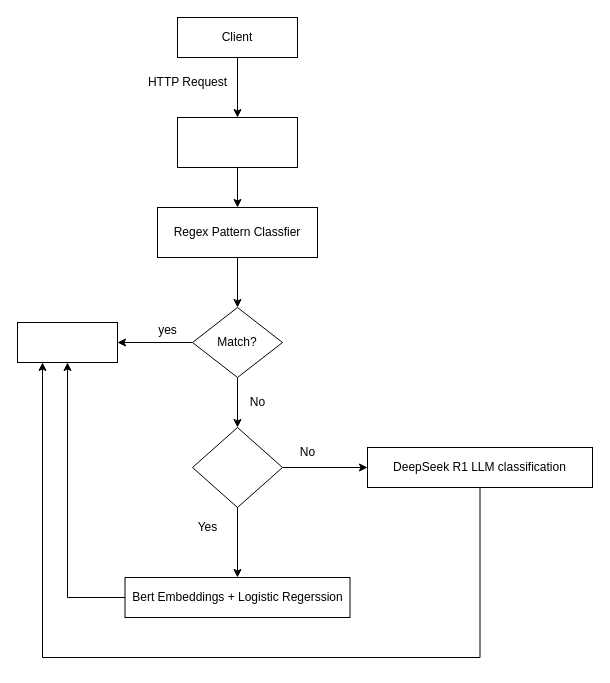
Image size: 610x683. Some labels were removed from this diagram. Here are the shapes that lost their labels. From the top down, the centre of each, then its label:
point (237, 142): FastAPI + Uvicorn
point (67, 342): return result
point (237, 467): Enough samples?
